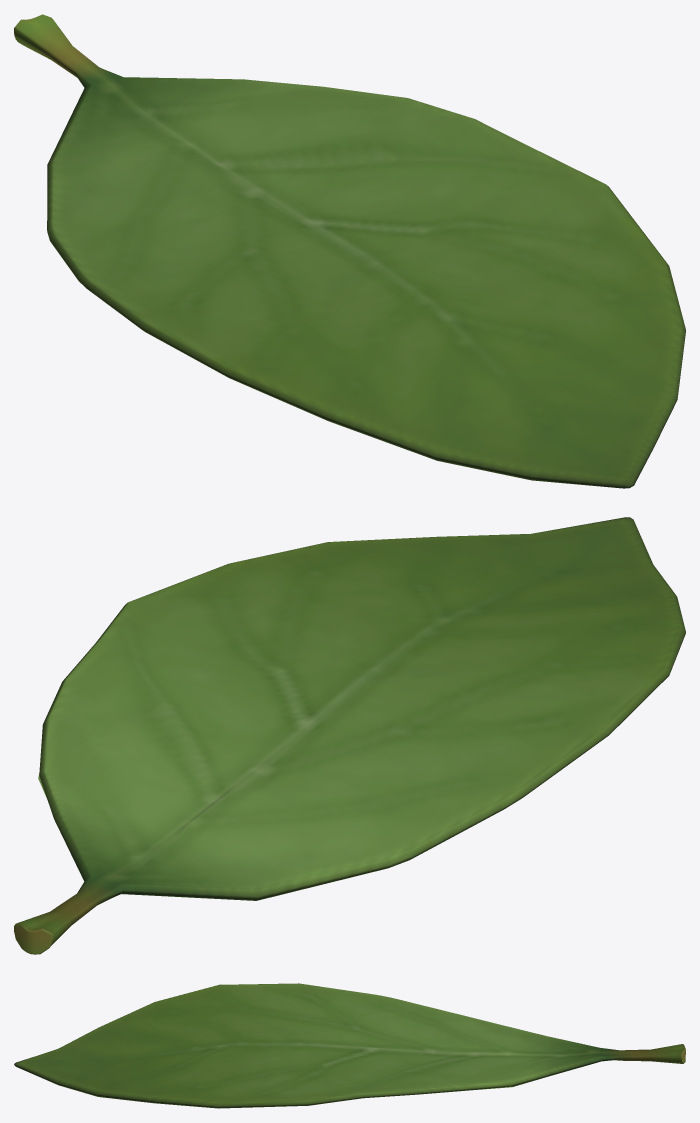
The model's file is Model_leaf_01.fbx.
The picture shows the model from 3 angles, top to bottom: view 1: azimuth 30°, elevation 25°; view 2: azimuth 150°, elevation 25°; view 3: azimuth 270°, elevation 25°; orthographic projection. The views are drawn at different scales.
Parts seen in each view (by area): view 1: leaf_01_a; view 2: leaf_01_a; view 3: leaf_01_a.
Boxes of the visible parts, bbox=[...] form: leaf_01_a: bbox=[14, 14, 685, 488]; leaf_01_a: bbox=[14, 517, 685, 954]; leaf_01_a: bbox=[14, 983, 685, 1108].
Size of the model in its own units: 296 by 38.4 by 648.
